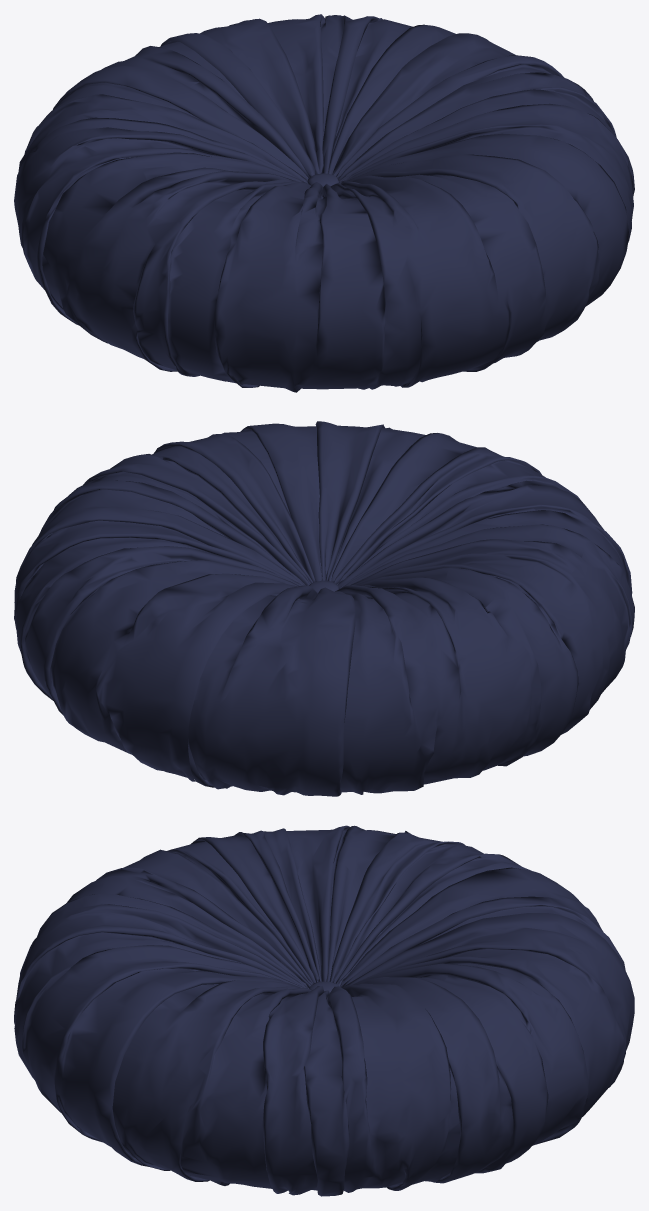
The model's file is ottoman.glb.
3 views of the same model, one above another, from view 1: azimuth 30°, elevation 25°; view 2: azimuth 150°, elevation 25°; view 3: azimuth 270°, elevation 25° (orthographic).
Parts seen in each view (by area): view 1: SpecularSilkPouf; view 2: SpecularSilkPouf; view 3: SpecularSilkPouf.
Part boxes in pixels (<box>): SpecularSilkPouf: <box>14,14,634,392</box>; SpecularSilkPouf: <box>14,421,634,796</box>; SpecularSilkPouf: <box>14,825,634,1196</box>.
Bounding box in the file's own units: 0.9869 × 0.32 × 0.9864.
